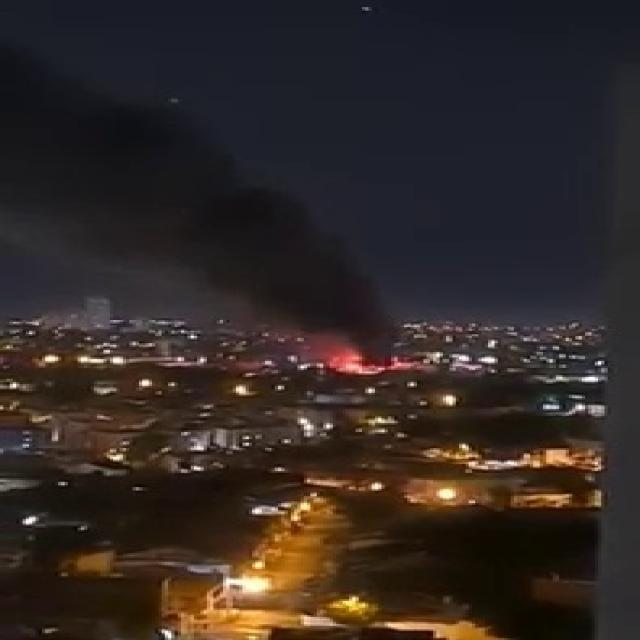Fire: (319, 344, 409, 376)
Smoke: (2, 29, 426, 338)
